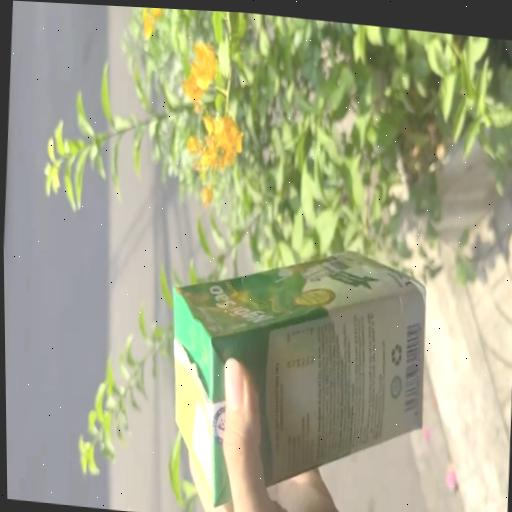ly_giay: (173, 251, 425, 505)
